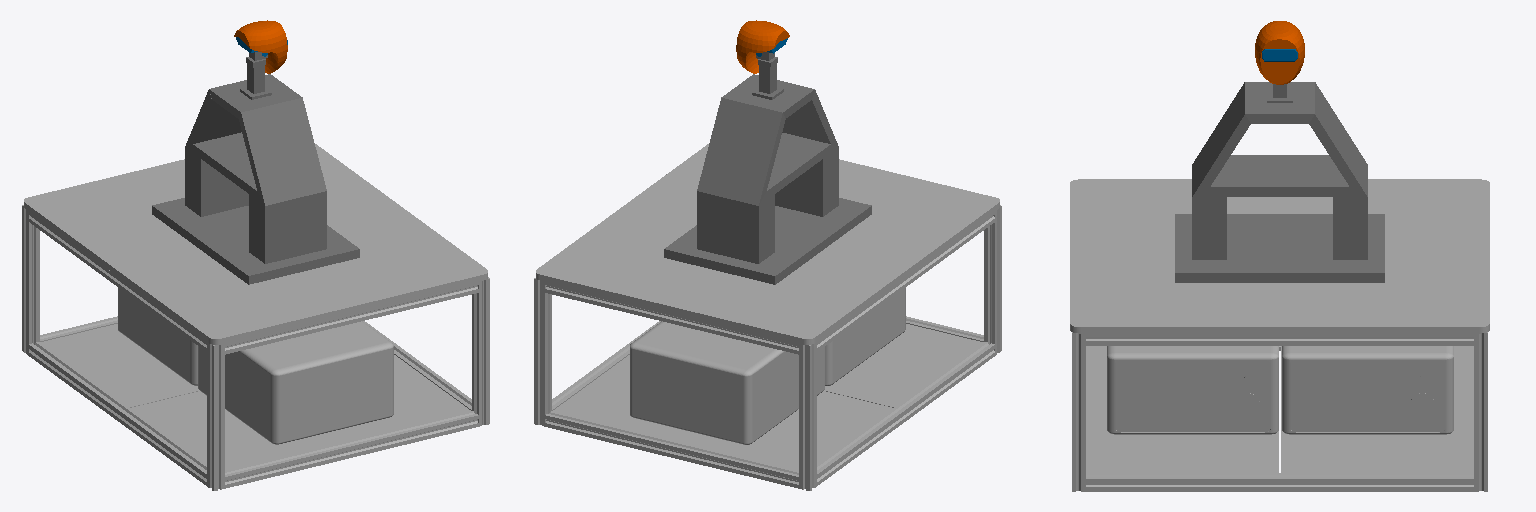
URDF robot description (IndyDualArm):
<?xml version="1.0" ?>
<robot name="IndyDualArm" xmlns:xacro="http://www.ros.org/wiki/xacro">
  <material name="metal_grey">
    <color rgba="0.5 0.5 0.5 1"/>
  </material>
  <material name="metal_white_grey">
    <color rgba="0.7 0.7 0.7 1"/>
  </material>  
	<link name="world"/>
	<link name="body">
		<inertial>
			<origin rpy="0 0 0" xyz="0 0 0"/>
			<mass value="1.59306955" />
			<inertia ixx="+0.00572623" iyy="+0.00558959" izz="+0.00966674" ixy="+0.00000251" iyz="-0.00000014" ixz="-0.00011380"/>
		</inertial>
		<visual>
			<origin rpy="0 0 0" xyz="0 0 0"/>
			<geometry>
				<mesh filename="meshes/visual/body.stl"/>
			</geometry>
		<material name="metal_grey"/>

		</visual>
		<collision>
			<origin rpy="0 0 0" xyz="0 0 0.11461"/>
			<geometry>
				<box size="0.4 0.6 0.22922" />
			</geometry>
		</collision>
		<collision>
			<origin rpy="0 0 0" xyz="0 0 0.22922"/>
	     <geometry>
	        <sphere radius="0.23"/>
      </geometry>		
		</collision>
	</link>
	
	
 	<joint name="world_fixed" type="fixed">
 		<origin rpy="0 0 0" xyz="0 0 0"/>
 		<parent link="world"/>
		<child link="body"/>
 	</joint>
 
	<link name="neck">	
	    <visual>
	      <origin rpy="0 0 0" xyz="0 0 0"/>
	      <geometry>
		<mesh filename="meshes/visual/neck.stl" scale="1 1 1"/>
	      </geometry>
	      	<material name="metal_grey"/>	        
	    </visual>
	    <inertial>
	      <mass value="0.001"/>
	      <origin rpy="0 0 0" xyz="0.0 0.0 0.0"/>
	      <inertia ixx="0.0" ixy="0.0" ixz="0.0" iyy="0.0" iyz="0.0" izz="0.0"/>
	    </inertial>	
	</link>	
	<link name="neck1">	
	    <visual>
	      <origin rpy="0 0 0" xyz="0 0 0"/>
	      <geometry>
		<mesh filename="meshes/visual/neck1.stl" scale="1 1 1"/>
	      </geometry>
	      	<material name="metal_grey"/>	        
	    </visual>
	    <inertial>
	      <mass value="0.001"/>
	      <origin rpy="0 0 0" xyz="0.0 0.0 0.0"/>
	      <inertia ixx="0.0" ixy="0.0" ixz="0.0" iyy="0.0" iyz="0.0" izz="0.0"/>
	    </inertial>	
	</link>		

	<link name="neck2">	
	    <visual>
	      <origin rpy="1.570796 0 0" xyz="0 0 0"/>
	      <geometry>
						<mesh filename="meshes/visual/neck2.obj" scale="1 1 1"/>
	      </geometry>	        
	    </visual>
	    <inertial>
	      <mass value="2"/>
	      <origin rpy="0 0 0" xyz="0.0 0.0 0.0"/>
	      <inertia ixx="0.0" ixy="0.0" ixz="0.0" iyy="0.0" iyz="0.0" izz="0.0"/>
	    </inertial>	
	</link>		
	<link name="mask">	
	    <visual>
	      <origin rpy="1.570796 0 0" xyz="0 0 0"/>
	      <geometry>
						<mesh filename="meshes/visual/mask.obj" scale="1 1 1"/>
	      </geometry>	        
	    </visual>
	    <inertial>
	      <mass value="2"/>
	      <origin rpy="0 0 0" xyz="0.0 0.0 0.0"/>
	      <inertia ixx="0.0" ixy="0.0" ixz="0.0" iyy="0.0" iyz="0.0" izz="0.0"/>
	    </inertial>	
	</link>		
	<joint name="neck_joint_1" type="fixed">
		<parent link="body"/>
		<child link="neck"/>
		<origin rpy="0.0 0.0 0.0" xyz="0 0 0.489808"/>
	</joint>  		
	<joint name="neck_joint_2" type="revolute">
		<parent link="neck"/>
		<child link="neck1"/>
		<origin rpy="0.0 0.0 0.0" xyz="0 0 0.119694"/>
		<limit effort="10" velocity="1" lower="-3.054325556" upper="3.054325556"/>		
		<axis xyz="0 0 1"/>
	</joint> 
	<joint name="neck_joint_3" type="revolute">
		<parent link="neck1"/>
		<child link="neck2"/>
		<origin rpy="0.0 0.0 0.0" xyz="0.021479 0 0.018994"/>
		<limit effort="10" velocity="1" lower="-3.054325556" upper="3.054325556"/>		
		<axis xyz="0 1 0"/>
	</joint>  
	<joint name="neck_joint_4" type="fixed">
		<parent link="neck2"/>
		<child link="mask"/>
		<origin rpy="0.0 0.0 0.0" xyz="0 0 0"/>
	</joint> 
	<link name="table">	
	    <visual>
	      <origin rpy="0 0 0" xyz="0 0 0"/>
	      <geometry>
						<mesh filename="meshes/visual/table.stl" scale="1 1 1"/>
	      </geometry>	 
	      <material name="metal_white_grey"/>	          
	    </visual>
	    <collision>
	      <origin rpy="0 0 0" xyz="0 0 -0.26024"/>
	      <geometry>
						<box size="1 1.2 0.52048	" />
	      </geometry>	 
	      <material name="metal_white_grey"/>	              
	    </collision>	    
	    <inertial>
	      <mass value="2"/>
	      <origin rpy="0 0 0" xyz="0.0 0.0 0.0"/>
	      <inertia ixx="0.0" ixy="0.0" ixz="0.0" iyy="0.0" iyz="0.0" izz="0.0"/>
	    </inertial>	
	</link>	
	<joint name="table_joint" type="fixed">
		<parent link="body"/>
		<child link="table"/>
		<origin rpy="0.0 0.0 0.0" xyz="0 0 0"/>
	</joint> 
</robot>

--- What the picture shows (computed from the rendered views, not written in the file) ---
3 views of the same robot in one strip: view 1: azimuth 30°, elevation 25°; view 2: azimuth 150°, elevation 25°; view 3: azimuth 270°, elevation 25° (orthographic).
Model IndyDualArm with 7 links and 6 joints (2 revolute, 4 fixed), rooted at world, posed every joint at zero.
Links seen in each view (by area): view 1: table, body, mask, neck; view 2: table, body, mask, neck; view 3: table, body, mask.
Boxes of the visible links, x1,y1,x2,y2 form: table: (22,144,489,490); body: (152,74,359,284); mask: (234,20,287,73); neck: (240,57,271,99); table: (534,144,1001,490); body: (664,74,871,284); mask: (736,20,789,73); neck: (752,57,783,99); table: (1070,179,1489,491); body: (1175,82,1384,282); mask: (1255,21,1304,84).
Bounding box of the posed robot: 1 × 1.2 × 1.24 m (x, y, z).
6 mesh visuals loaded from 6 distinct referenced files (4 binary STL, 2 OBJ).